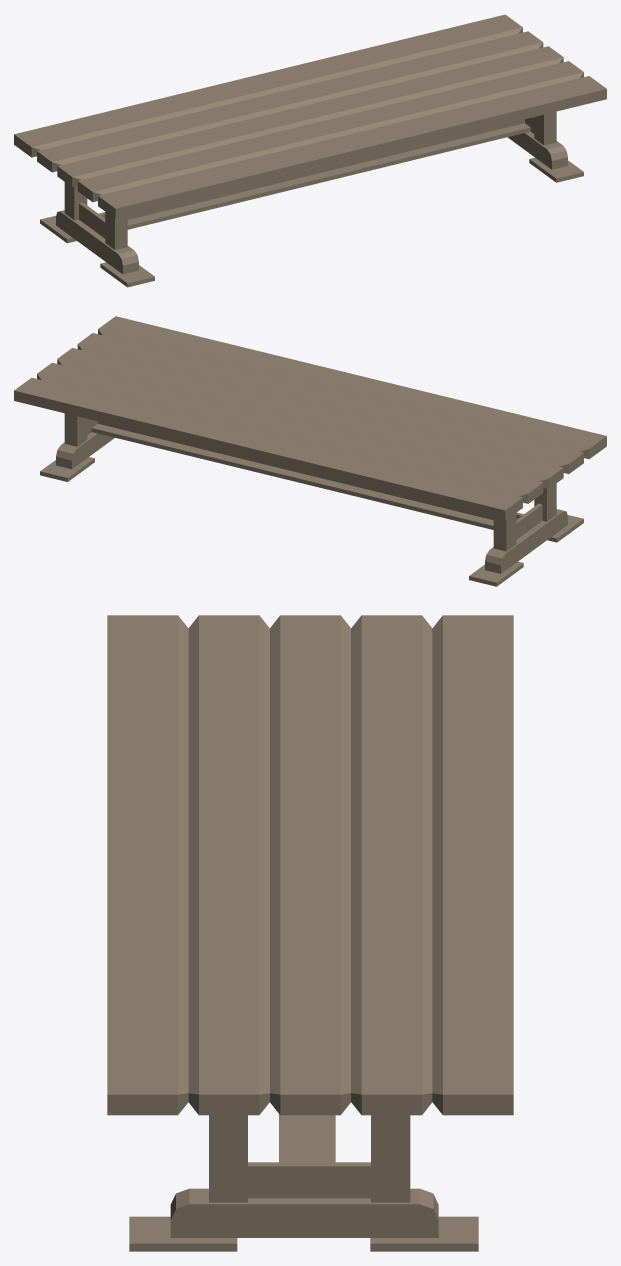
The model's file is Dining Table.fbx.
3 renders of one model, top to bottom at view 1: azimuth 30°, elevation 25°; view 2: azimuth 150°, elevation 25°; view 3: azimuth 270°, elevation 25°, orthographic. The views are drawn at different scales.
Parts seen in each view (by area): view 1: Dining Table; view 2: Dining Table; view 3: Dining Table.
Part boxes in pixels (left/top/right/bottom): Dining Table: left=14, top=14, right=606, bottom=287; Dining Table: left=14, top=316, right=606, bottom=586; Dining Table: left=107, top=615, right=513, bottom=1251.
Bounding box in the file's own units: 706 × 119 × 253.
